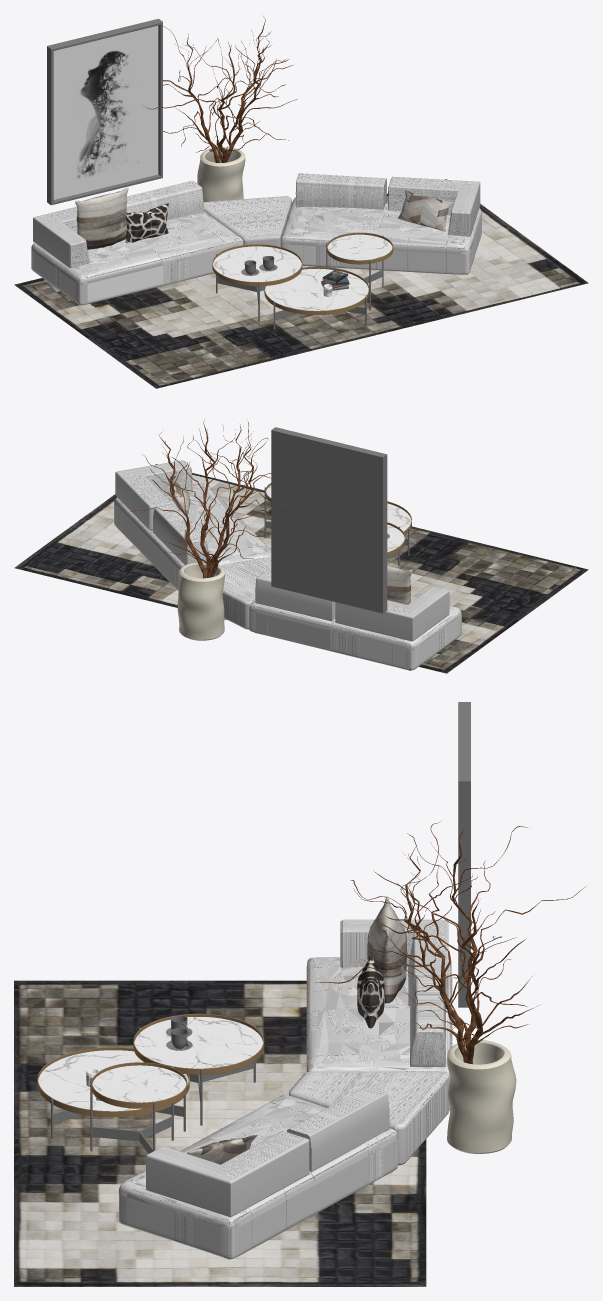
Rendered from noithatlau2.gltf.
The picture shows the model from 3 angles, top to bottom: view 1: azimuth 30°, elevation 25°; view 2: azimuth 150°, elevation 25°; view 3: azimuth 270°, elevation 25°; orthographic projection. The views are drawn at different scales.
Visible parts, largest first — view 1: noithatlau2; view 2: noithatlau2; view 3: noithatlau2.
Part boxes in pixels (x1=…): noithatlau2: x1=14, y1=16, x2=588, y2=388; noithatlau2: x1=14, y1=420, x2=588, y2=673; noithatlau2: x1=14, y1=702, x2=586, y2=1286.
Bounding box in the file's own units: 5.36 × 2.55 × 4.25.
24 materials, 16 textured.
